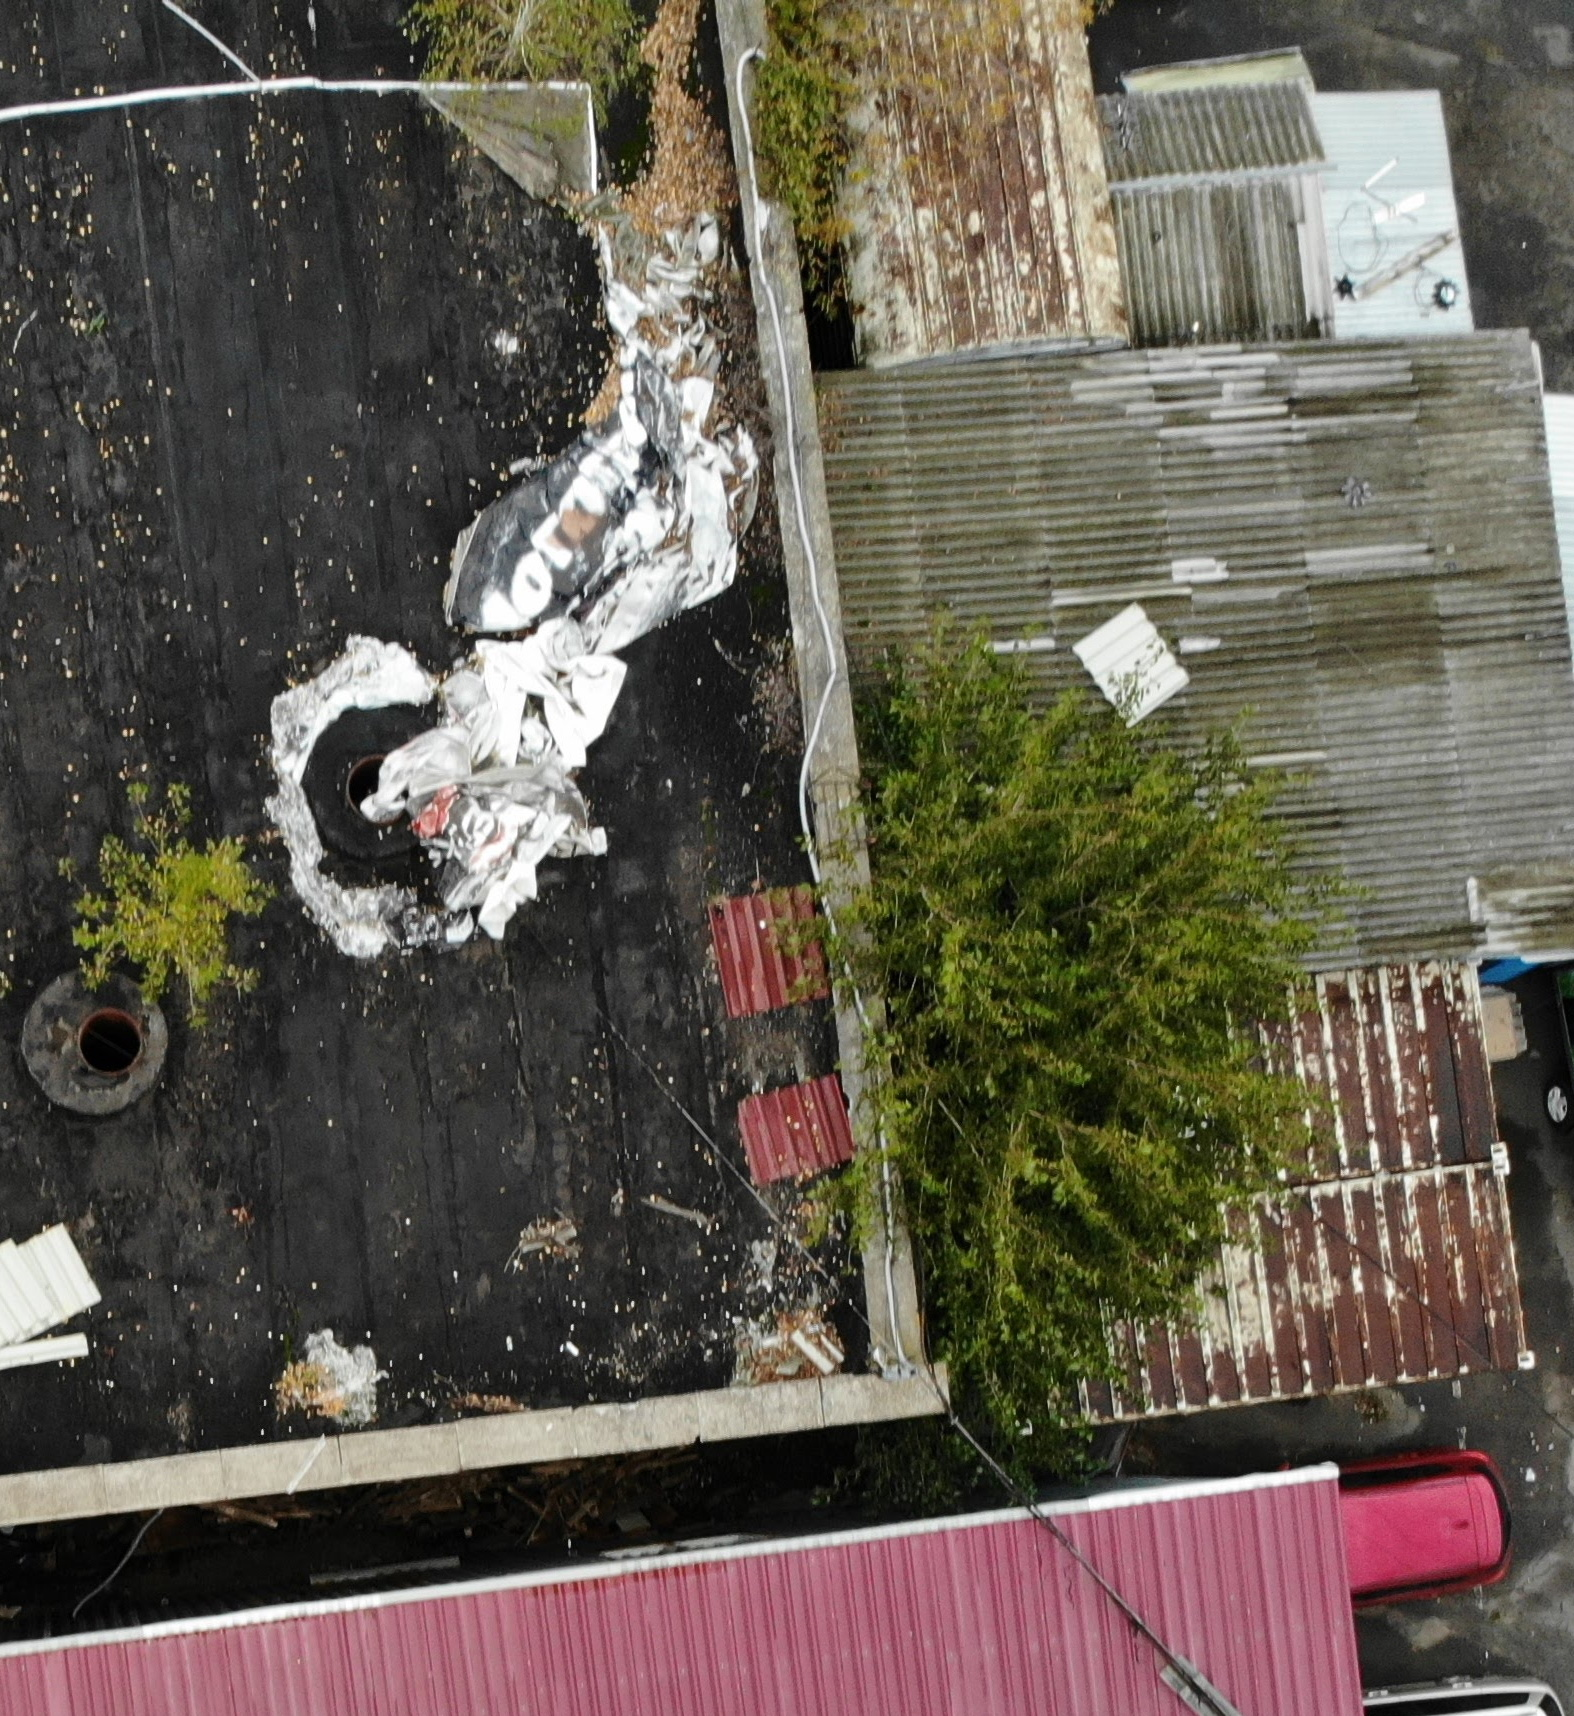tree: (694, 607, 1356, 1471), (51, 768, 291, 1067), (602, 28, 864, 271)
